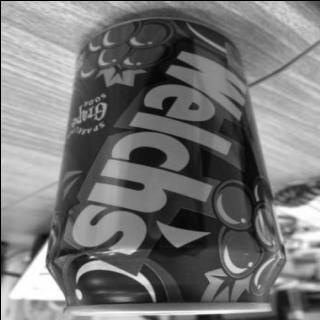alumunium_can: (48, 14, 278, 308)
